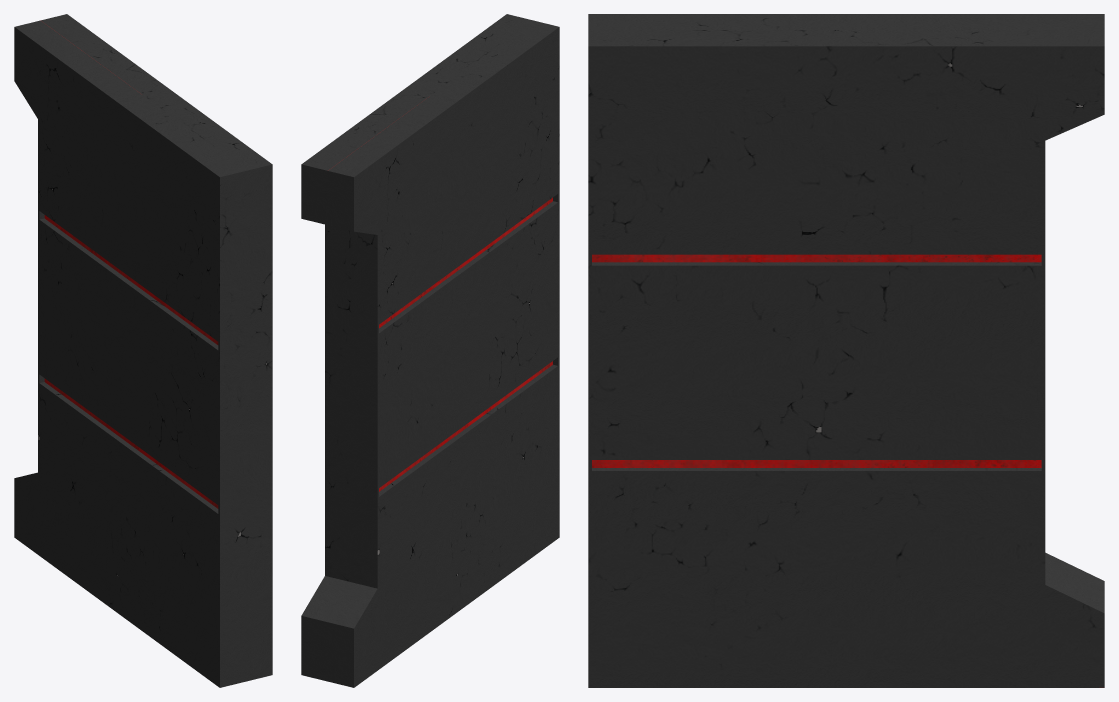
Rendered from Back_DoorFrame.fbx.
The picture shows the model from 3 angles, left to right: view 1: azimuth 30°, elevation 25°; view 2: azimuth 150°, elevation 25°; view 3: azimuth 270°, elevation 25°; orthographic projection. The views are drawn at different scales.
Parts seen in each view (by area): view 1: MS_BackDoorRight; view 2: MS_BackDoorRight; view 3: MS_BackDoorRight.
Part boxes in pixels (<box>): MS_BackDoorRight: <box>14,14,272,687</box>; MS_BackDoorRight: <box>301,14,559,687</box>; MS_BackDoorRight: <box>588,14,1104,687</box>.
Bounding box in the file's own units: 8.61 × 79.72 × 58.14.
Materials: 1 (1 with a texture image).
